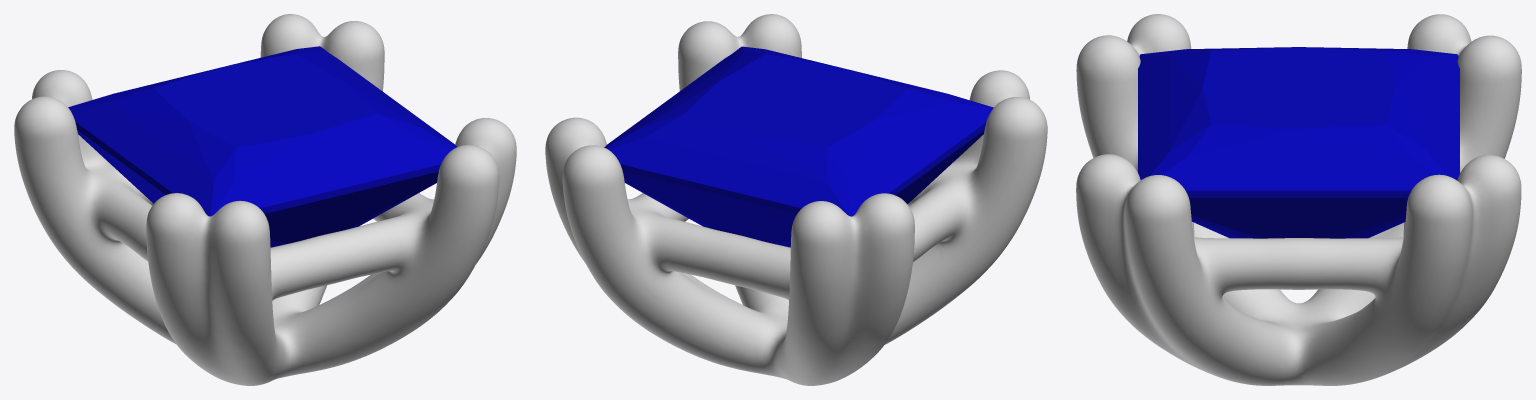
The model's file is Princess.glb.
The picture shows the model from 3 angles, left to right: view 1: azimuth 30°, elevation 25°; view 2: azimuth 150°, elevation 25°; view 3: azimuth 270°, elevation 25°; orthographic projection. The views are drawn at different scales.
Visible parts, largest first — view 1: /GSMOD388300- DOUBLE PRONG_PRINCESS_IJ.3dm, Diamond_Princess; view 2: /GSMOD388300- DOUBLE PRONG_PRINCESS_IJ.3dm, Diamond_Princess; view 3: /GSMOD388300- DOUBLE PRONG_PRINCESS_IJ.3dm, Diamond_Princess.
Part boxes in pixels (box(x1,y1,x2,y2)): /GSMOD388300- DOUBLE PRONG_PRINCESS_IJ.3dm: box(14, 14, 516, 385); Diamond_Princess: box(68, 46, 456, 247); /GSMOD388300- DOUBLE PRONG_PRINCESS_IJ.3dm: box(545, 14, 1047, 385); Diamond_Princess: box(604, 46, 993, 247); /GSMOD388300- DOUBLE PRONG_PRINCESS_IJ.3dm: box(1076, 14, 1521, 385); Diamond_Princess: box(1138, 47, 1459, 238).
Bounding box in the file's own units: 8.87 × 6.34 × 8.86.
